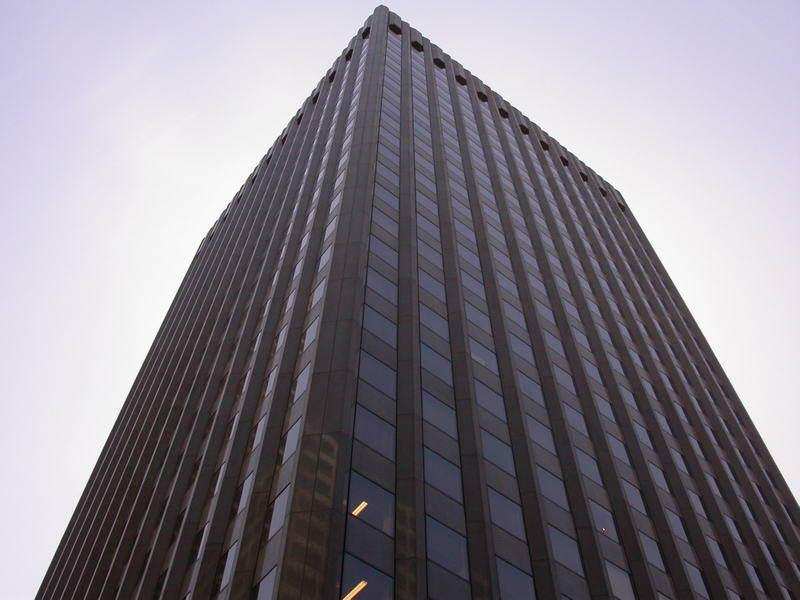building: (38, 4, 800, 600)
